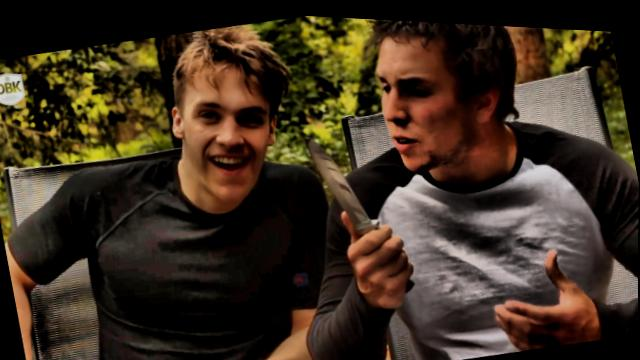knife: (294, 103, 417, 287)
